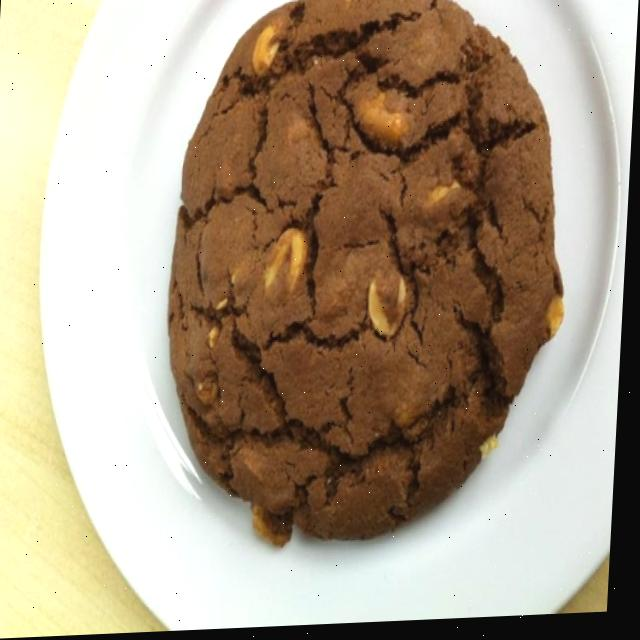蛋糕甜品: (92, 0, 607, 574)
